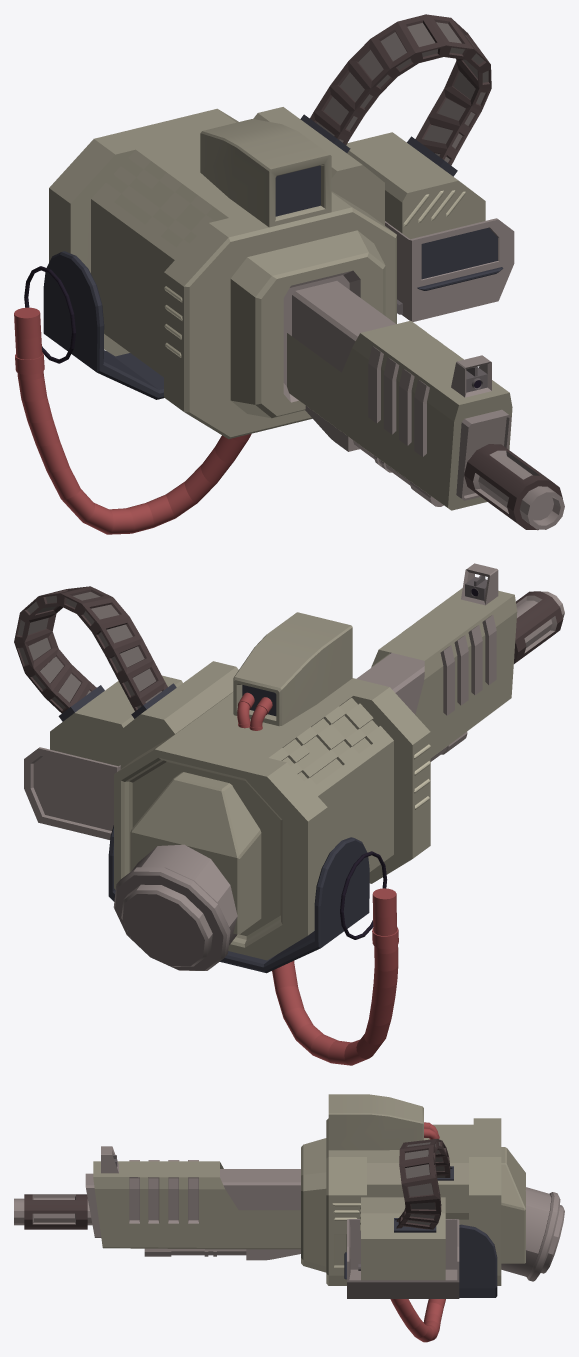
The model's file is Turret_a.fbx.
3 views of the same model, one above another, from view 1: azimuth 30°, elevation 25°; view 2: azimuth 150°, elevation 25°; view 3: azimuth 270°, elevation 25° (orthographic). The views are drawn at different scales.
Visible parts, largest first — view 1: Cube, Cube.006, Cube.004, Cube.012, Cube.007, Cylinder.006, Cube.020, Cube.010, Cube.001, Cube.016, Cube.014, Cylinder.007 (+1 smaller); view 2: Cube, Cube.006, Cylinder, Cube.004, Cube.012, Cube.007, Cylinder.006, Cube.020, Cube.001, Cube.010, Plane.001, Cube.014 (+1 smaller); view 3: Cube, Cube.006, Cube.004, Cube.007, Cube.012, Cylinder, Cube.010, Cube.020, Cylinder.006, Cylinder.002, Cube.013, Cube.014.
Part boxes in pixels (x1,y1,x2,y2): Cube: [49, 107, 396, 439]; Cube.006: [287, 281, 512, 510]; Cube.004: [300, 114, 514, 321]; Cube.012: [310, 14, 491, 165]; Cube.007: [200, 119, 331, 227]; Cylinder.006: [14, 307, 251, 534]; Cube.020: [43, 251, 164, 399]; Cube.010: [464, 444, 564, 530]; Cube.001: [368, 346, 429, 456]; Cube.016: [164, 190, 465, 357]; Cube.014: [451, 355, 491, 397]; Cylinder.007: [24, 266, 75, 363]; Cube: [114, 661, 430, 960]; Cube.006: [356, 588, 517, 758]; Cylinder: [113, 844, 237, 970]; Cube.004: [24, 675, 182, 839]; Cube.012: [14, 586, 167, 713]; Cube.007: [233, 612, 352, 726]; Cylinder.006: [272, 888, 398, 1065]; Cube.020: [108, 825, 369, 973]; Cube.001: [440, 615, 496, 715]; Cube.010: [514, 591, 564, 663]; Plane.001: [237, 692, 272, 730]; Cube.014: [461, 563, 498, 605]; Cube: [301, 1118, 525, 1285]; Cube.006: [85, 1161, 300, 1249]; Cube.004: [347, 1166, 459, 1298]; Cube.007: [328, 1094, 423, 1150]; Cube.012: [396, 1138, 450, 1229]; Cylinder: [501, 1187, 564, 1281]; Cube.010: [14, 1194, 92, 1229]; Cube.020: [459, 1224, 497, 1297]; Cylinder.006: [390, 1299, 445, 1342]; Cylinder.002: [144, 1248, 246, 1256]; Cube.013: [246, 1249, 300, 1260]; Cube.014: [101, 1146, 118, 1173].
Bounding box in the file's own units: 429 × 417 × 733.
